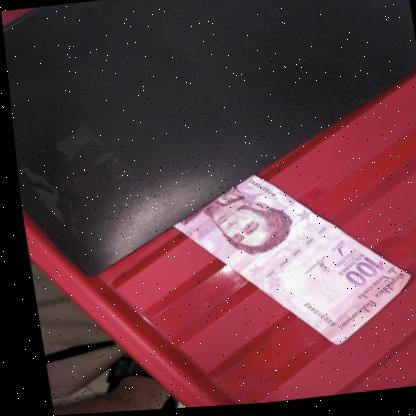one_hundred-front-vef: (160, 161, 414, 364)
